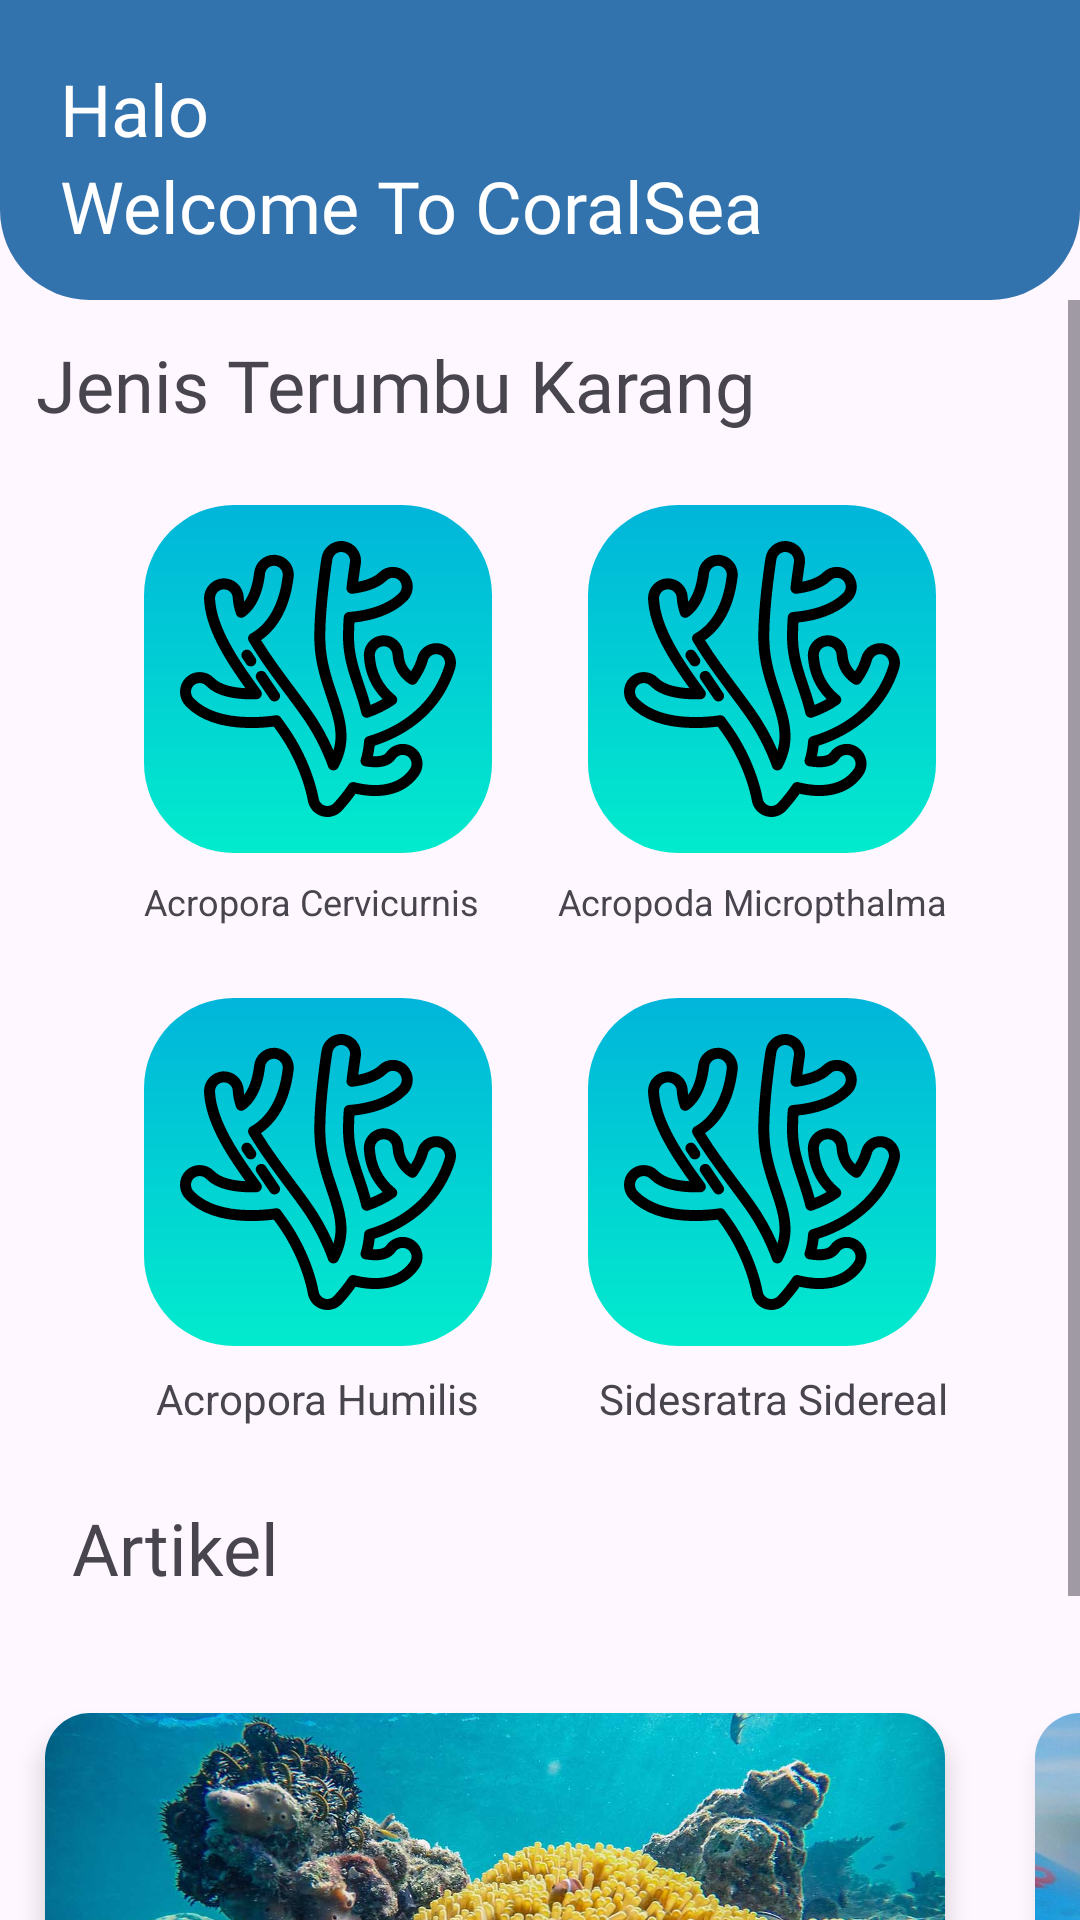

Where to tap for icons on this 1080 x 1920 app screen, as (x=x, y=y):
coral: (x=318, y=679), (x=762, y=679), (x=318, y=1172), (x=762, y=1172)
